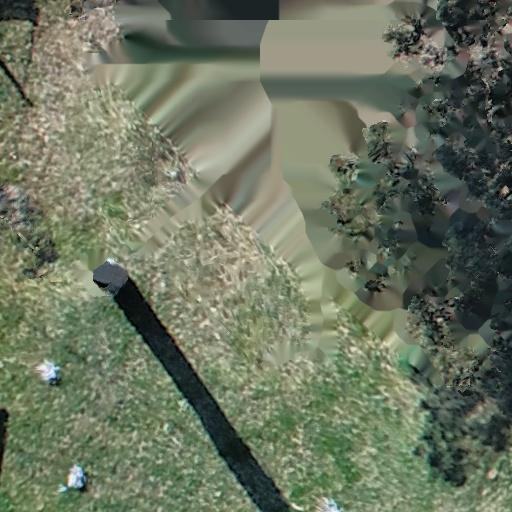stone: (2, 187, 30, 234), (59, 459, 90, 494), (38, 357, 59, 380), (312, 497, 340, 512)
